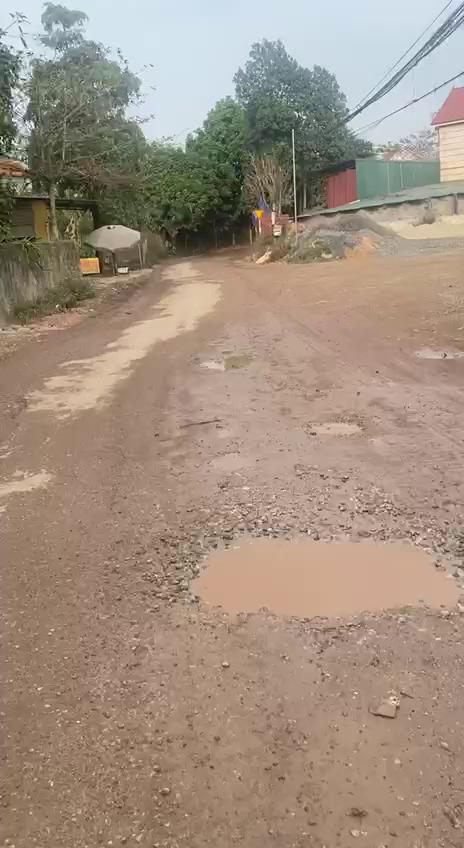pothole: (173, 520, 464, 626), (309, 417, 366, 440)
